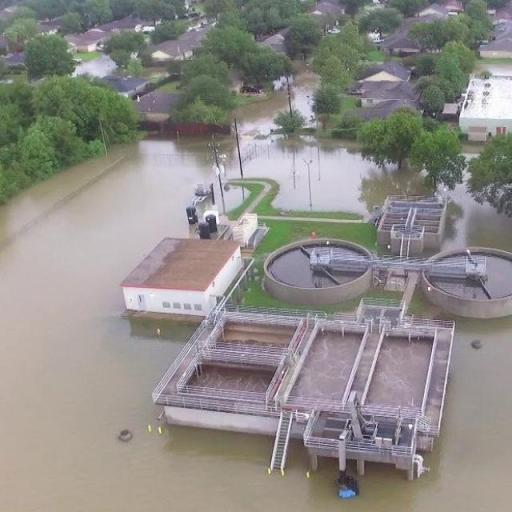flood: (0, 137, 512, 512), (238, 92, 424, 216), (445, 183, 512, 252), (294, 74, 317, 118), (218, 136, 240, 180), (482, 61, 512, 72)
house: (144, 306, 466, 479), (119, 235, 250, 321), (376, 190, 446, 258), (462, 66, 510, 141), (363, 68, 405, 94)
